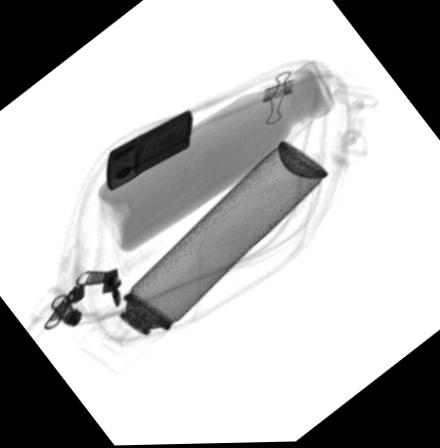Lighter: (104, 110, 193, 190)
Sprayer: (74, 141, 328, 377)
